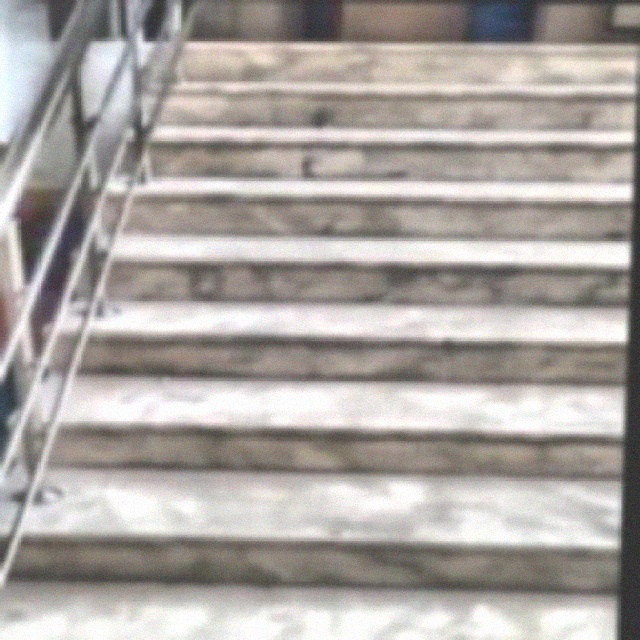stair: (34, 31, 638, 638)
